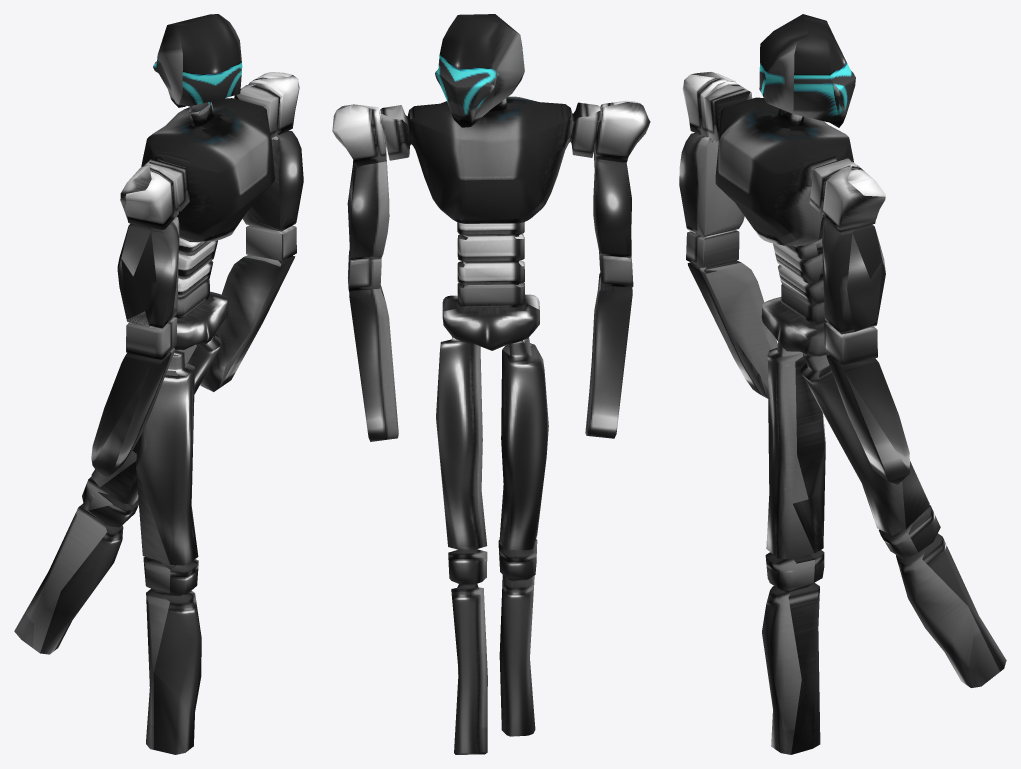
File: frame_012.obj
The picture shows the model from 3 angles, left to right: view 1: azimuth 30°, elevation 25°; view 2: azimuth 150°, elevation 25°; view 3: azimuth 270°, elevation 25°; orthographic projection. The views are drawn at different scales.
Parts seen in each view (by area): view 1: Cyborg, PierzaI, PiernaD, Cabeza, AntebrazoD, BrazoD; view 2: Cyborg, PiernaD, PierzaI, Cabeza, AntebrazoD, BrazoD; view 3: Cyborg, PierzaI, PiernaD, AntebrazoD, Cabeza, BrazoD.
Boxes of the visible parts, left/top/right/bottom form: Cyborg: left=91, top=84, right=280, bottom=476; PierzaI: left=136, top=349, right=201, bottom=754; PiernaD: left=14, top=330, right=221, bottom=654; Cabeza: left=153, top=14, right=242, bottom=107; AntebrazoD: left=242, top=72, right=303, bottom=261; BrazoD: left=200, top=255, right=295, bottom=391; Cyborg: left=380, top=96, right=650, bottom=438; PiernaD: left=436, top=336, right=487, bottom=754; PierzaI: left=498, top=337, right=548, bottom=736; Cabeza: left=435, top=14, right=524, bottom=127; AntebrazoD: left=332, top=104, right=389, bottom=290; BrazoD: left=349, top=285, right=398, bottom=441; Cyborg: left=679, top=72, right=856, bottom=398; PierzaI: left=762, top=342, right=825, bottom=754; PiernaD: left=800, top=353, right=1006, bottom=687; AntebrazoD: left=822, top=165, right=885, bottom=365; Cabeza: left=759, top=14, right=855, bottom=127; BrazoD: left=826, top=354, right=909, bottom=484.
Bounding box in the file's own units: 8.93 × 24.73 × 9.93.
1 material, 1 textured.
